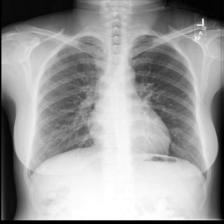normal: (32, 31, 210, 188)
